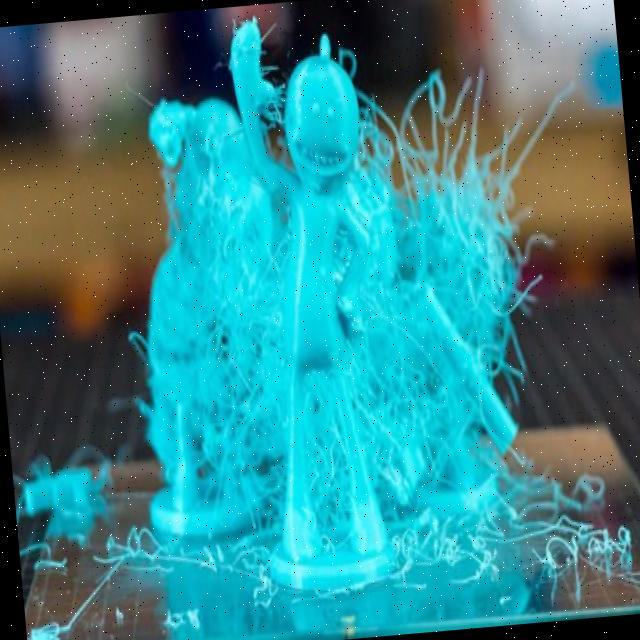spaghetti: (349, 70, 530, 357), (188, 140, 298, 530), (531, 498, 640, 604), (392, 504, 504, 596)
